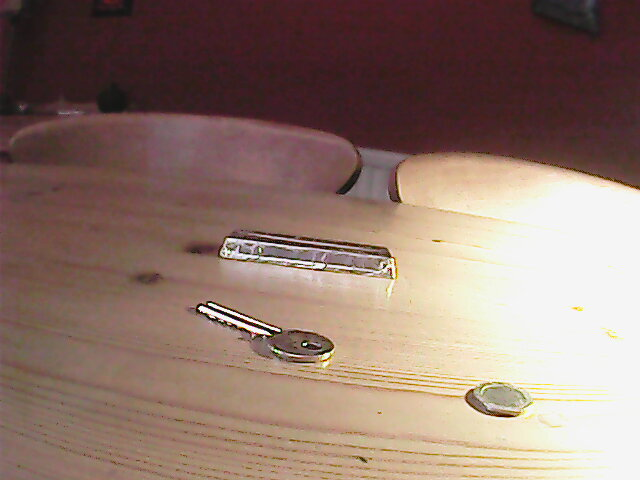Coin: (467, 379, 531, 417)
Foil: (209, 225, 398, 282)
Key: (190, 296, 338, 368)
